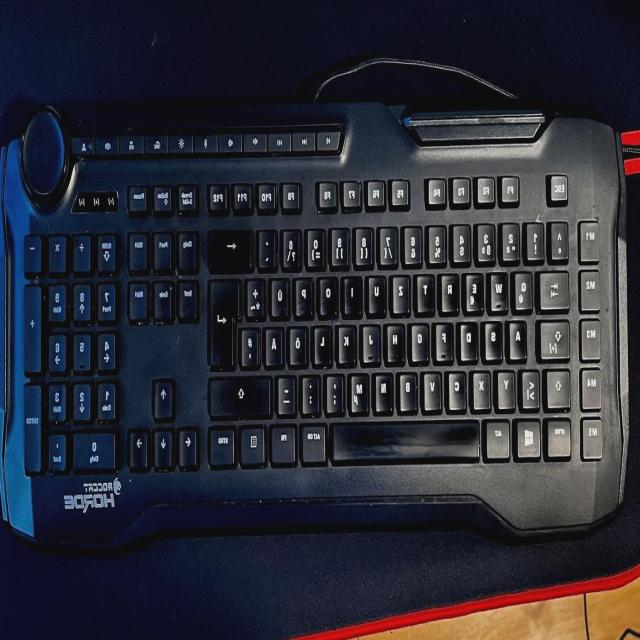0: (308, 223, 328, 266)
1: (528, 218, 546, 258)
2: (503, 218, 522, 259)
3: (478, 219, 498, 260)
4: (454, 220, 473, 261)
5: (429, 220, 449, 262)
6: (404, 221, 424, 262)
7: (380, 222, 400, 264)
8: (356, 222, 376, 265)
9: (331, 223, 352, 265)
a: (510, 315, 529, 358)
accent: (260, 224, 279, 266)
ae: (266, 321, 286, 364)
alt-left: (487, 414, 513, 457)
altgr-right: (303, 419, 329, 461)
b: (400, 366, 420, 409)
c: (449, 366, 469, 408)
caret: (552, 217, 570, 258)
comma: (327, 368, 346, 411)
d: (462, 316, 480, 359)
del: (210, 225, 255, 267)
e: (467, 267, 486, 310)
enter: (211, 272, 243, 367)
f: (437, 317, 455, 359)
g: (413, 318, 431, 359)
h: (388, 318, 407, 360)
hash: (242, 322, 262, 365)
i: (344, 271, 364, 312)
j: (364, 318, 382, 361)
k: (339, 318, 358, 361)
keyboard: (0, 95, 620, 551)
l: (315, 320, 334, 362)
less: (523, 365, 542, 408)
m: (352, 368, 372, 411)
minus: (279, 370, 298, 413)
n: (376, 367, 396, 410)
o: (320, 272, 340, 313)
oe: (290, 321, 310, 363)
p: (296, 272, 316, 314)
plus: (248, 272, 268, 316)
point: (304, 370, 322, 411)
q: (516, 266, 535, 309)
r: (442, 268, 461, 310)
s: (486, 316, 504, 358)
shift-left: (547, 366, 573, 407)
shift-lock: (540, 315, 572, 358)
shift-right: (211, 371, 274, 414)
space: (332, 414, 483, 460)
ss: (283, 224, 303, 267)
strg-left: (547, 413, 573, 456)
strg-right: (211, 421, 239, 465)
t: (418, 268, 437, 310)
tab: (540, 266, 572, 308)
u: (369, 270, 389, 312)
ue: (272, 272, 292, 315)
v: (424, 366, 444, 409)
w: (491, 266, 510, 310)
x: (474, 366, 492, 407)
y: (499, 365, 517, 407)
z: (393, 270, 412, 311)
